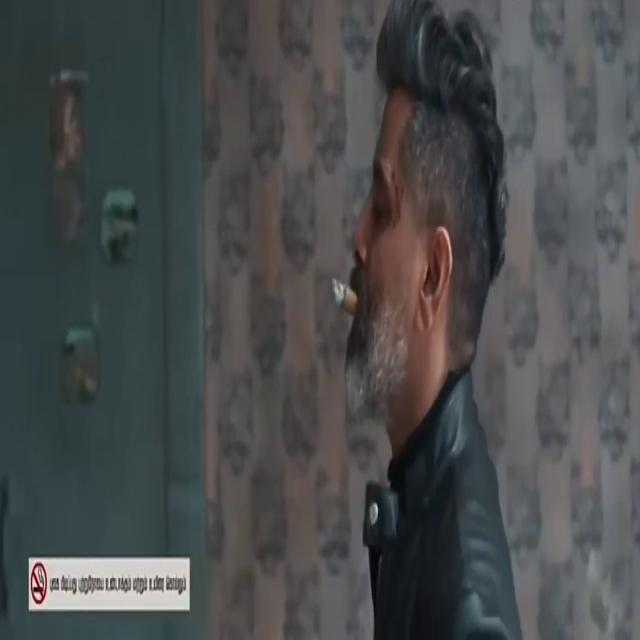smoking: (360, 194, 400, 378)
